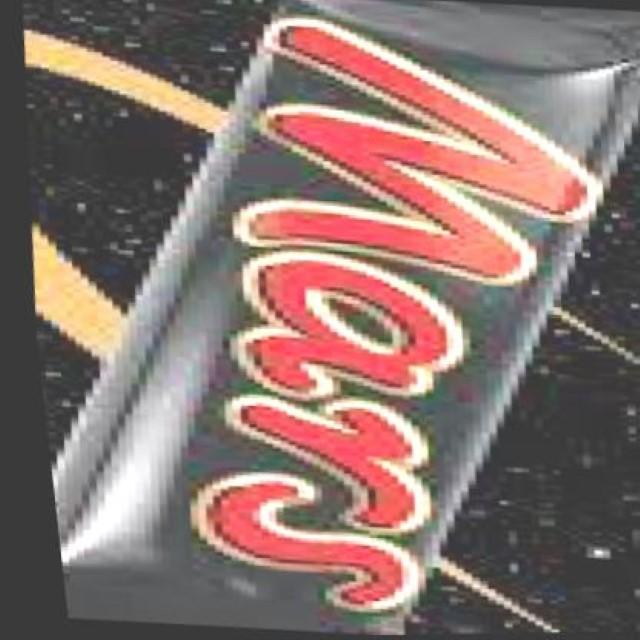mars_chocolate: (80, 36, 610, 640)
